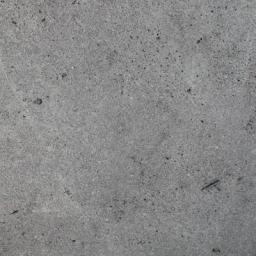FOD: (200, 177, 225, 193)
